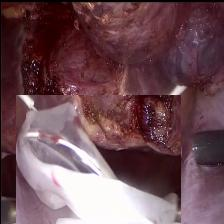Specimen Bag: (15, 94, 180, 224)
